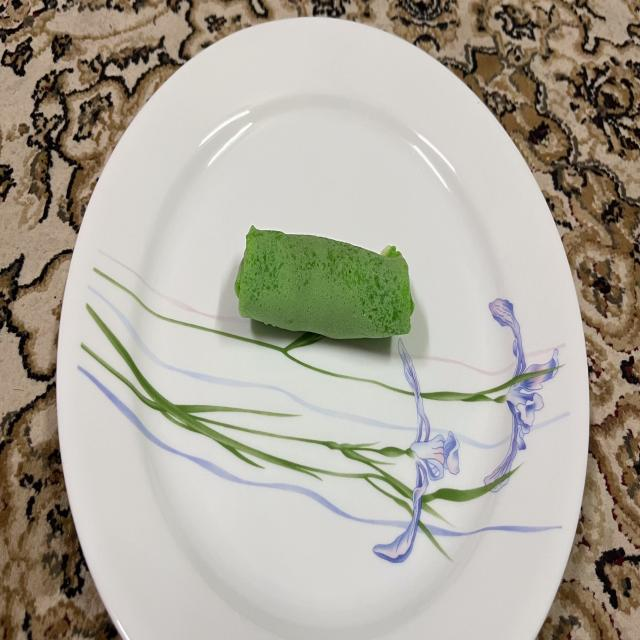Kuih-Ketayap: (235, 227, 412, 338)
